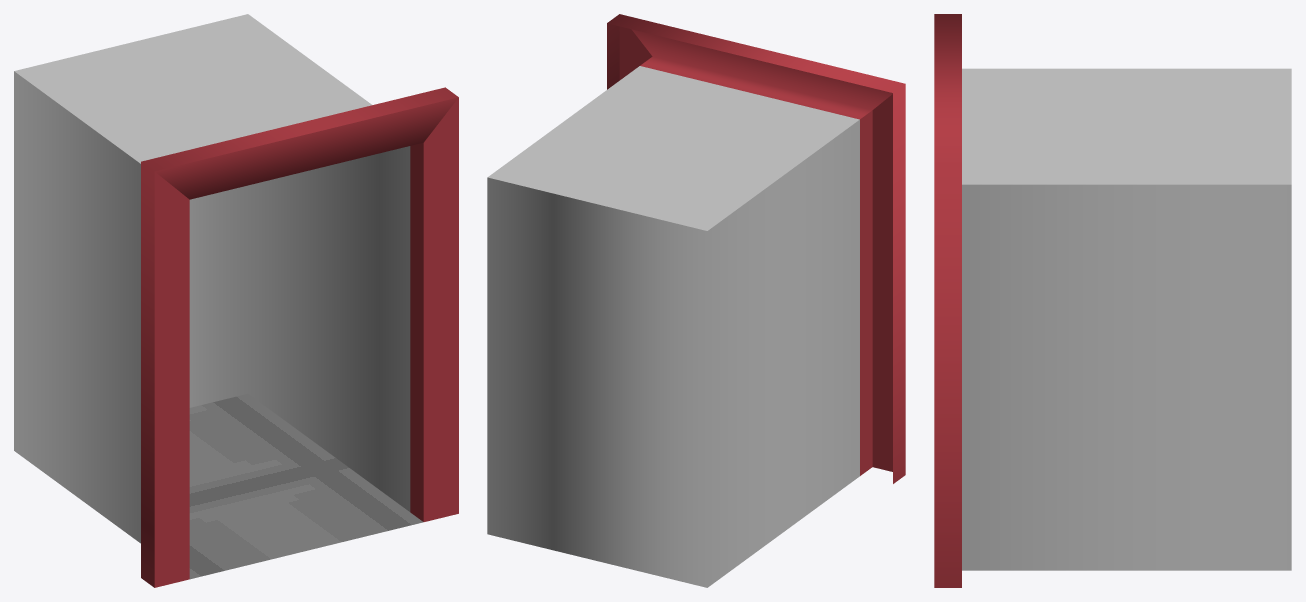
Rendered from DOOR1.obj.
The picture shows the model from 3 angles, left to right: view 1: azimuth 30°, elevation 25°; view 2: azimuth 150°, elevation 25°; view 3: azimuth 270°, elevation 25°; orthographic projection. The views are drawn at different scales.
Parts seen in each view (by area): view 1: m_dun2608_01_00c; view 2: m_dun2608_01_00c; view 3: m_dun2608_01_00c.
Boxes of the visible parts, <box> form: m_dun2608_01_00c: <box>14,14,458,587</box>; m_dun2608_01_00c: <box>487,14,905,587</box>; m_dun2608_01_00c: <box>934,14,1291,587</box>.
Bounding box in the file's own units: 26 × 34 × 26.
